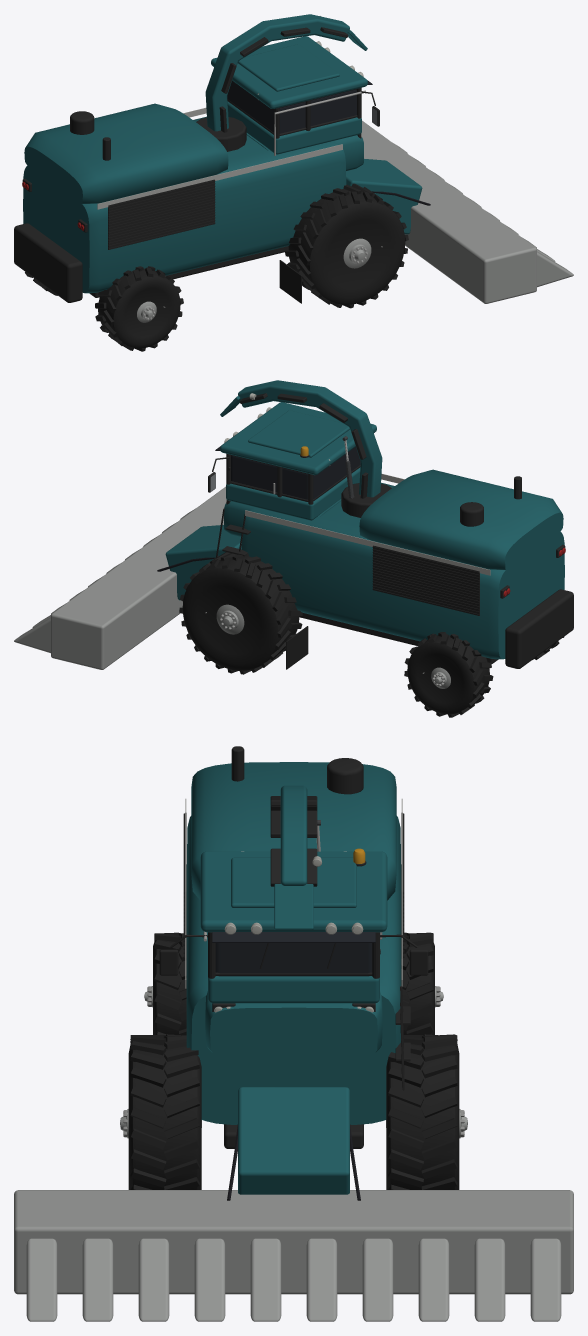
The model's file is SM_Prop_farm_forager_0.glb.
The picture shows the model from 3 angles, top to bottom: view 1: azimuth 30°, elevation 25°; view 2: azimuth 150°, elevation 25°; view 3: azimuth 270°, elevation 25°; orthographic projection. The views are drawn at different scales.
Visible parts, largest first — view 1: SM_Prop_farm_forager_0; view 2: SM_Prop_farm_forager_0; view 3: SM_Prop_farm_forager_0.
Boxes of the visible parts, box(x1,y1,x2,y2) form: SM_Prop_farm_forager_0: box(14, 14, 573, 351); SM_Prop_farm_forager_0: box(14, 380, 573, 717); SM_Prop_farm_forager_0: box(14, 746, 573, 1321).
Size of the model in its own units: 8.38 by 4.55 by 6.
